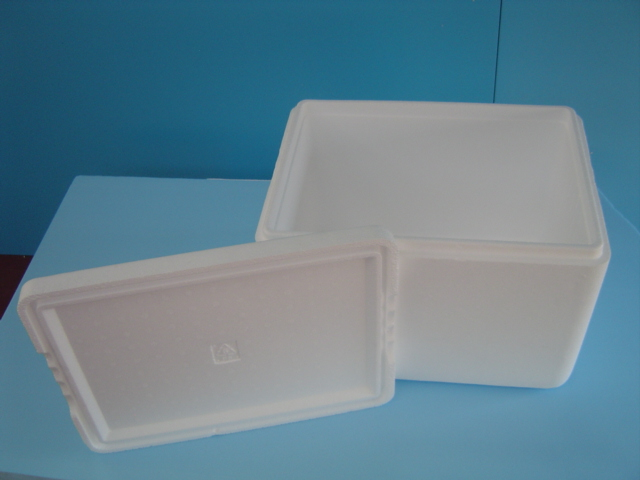泡沫箱: (19, 101, 608, 450)
